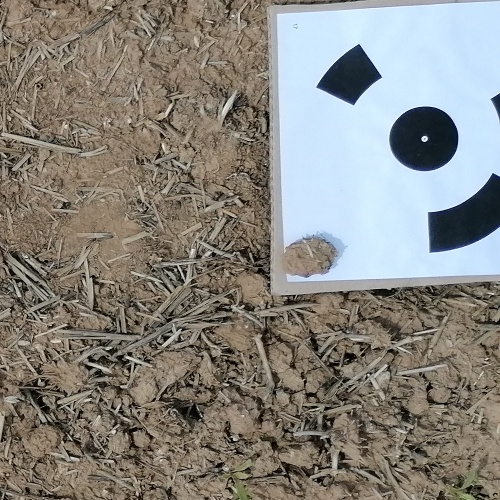beet: (220, 459, 252, 500), (451, 467, 480, 500)
